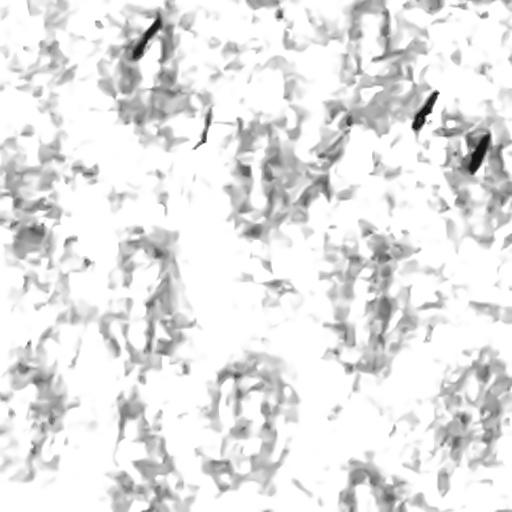egg: (132, 15, 161, 60), (412, 90, 439, 130), (467, 132, 490, 174)
